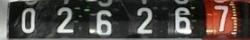digits: (174, 6, 192, 33), (136, 6, 154, 33), (56, 6, 74, 33), (213, 5, 229, 33), (96, 9, 112, 33), (21, 7, 35, 32)
